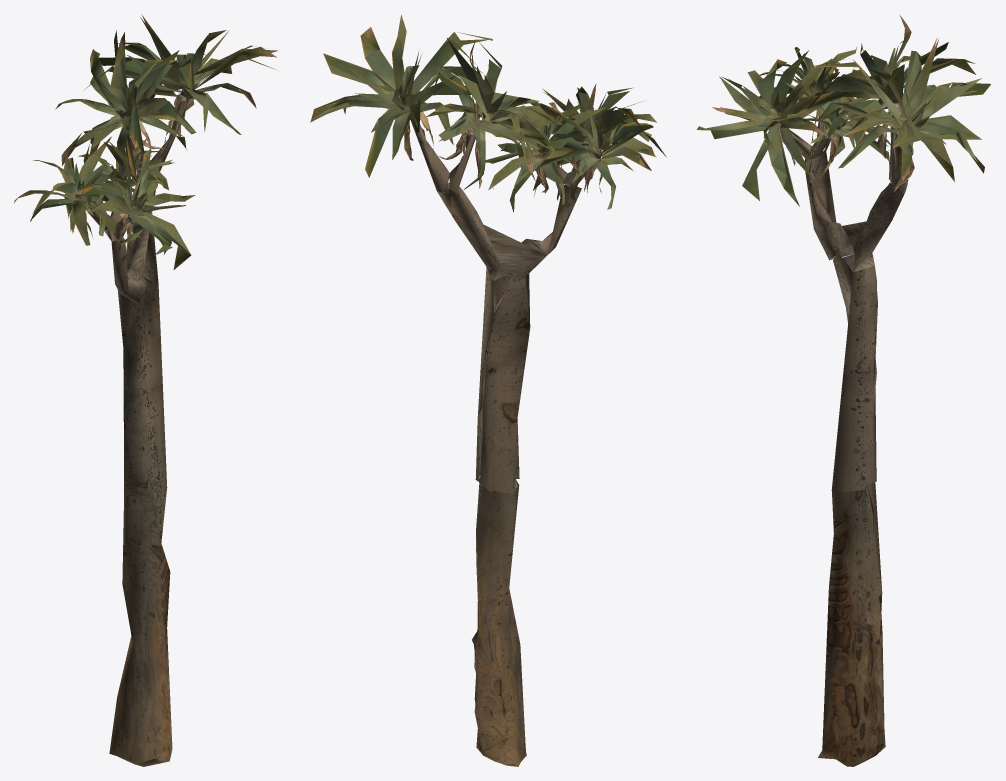
File: desert-tree.glb
3 views of the same model, side by side, from view 1: azimuth 30°, elevation 25°; view 2: azimuth 150°, elevation 25°; view 3: azimuth 270°, elevation 25° (orthographic). The views are drawn at different scales.
Visible parts, largest first — view 1: quiver_tree_01; view 2: quiver_tree_01; view 3: quiver_tree_01.
Boxes of the visible parts, box(x1,y1,x2,y2) form: quiver_tree_01: box(14, 14, 278, 766); quiver_tree_01: box(310, 14, 666, 766); quiver_tree_01: box(696, 15, 990, 766).
Size of the model in its own units: 1.17 by 2.72 by 0.9702.
Materials: 2 (2 with a texture image).
